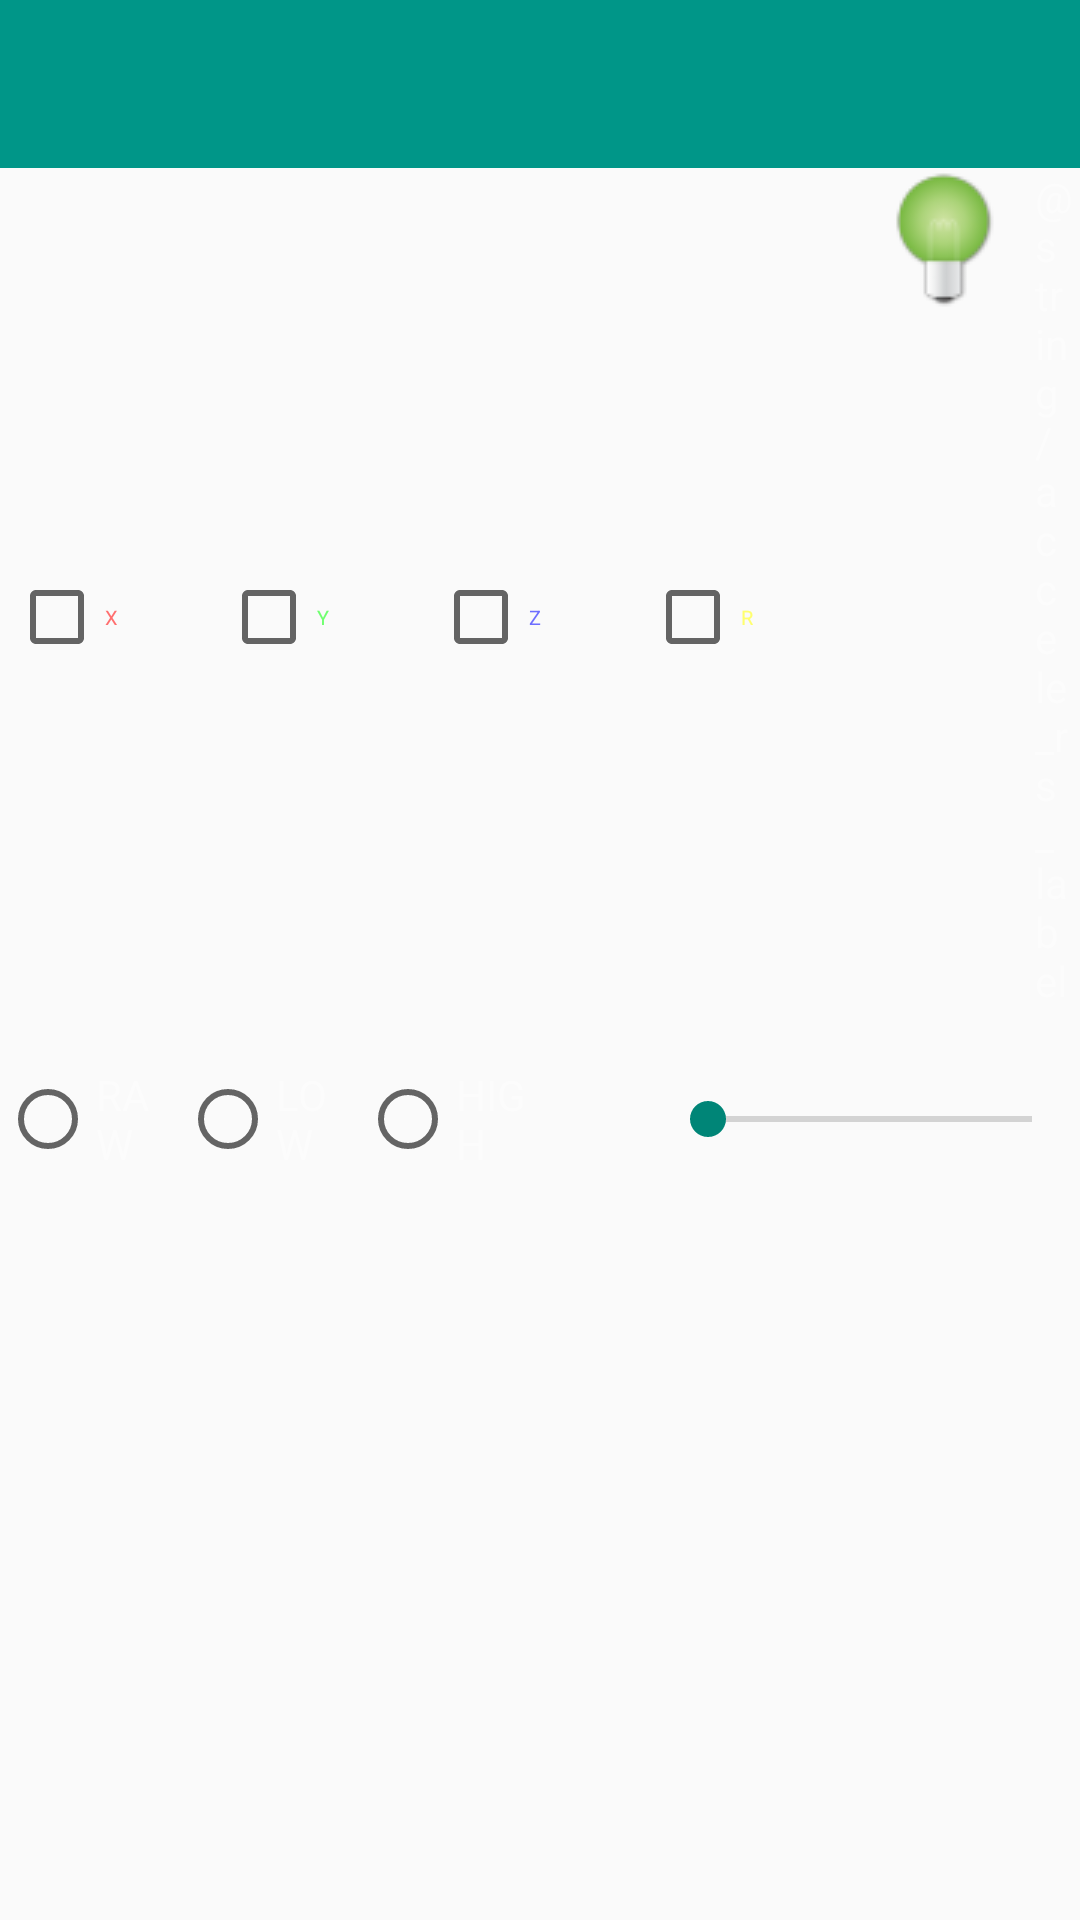

Where icons sit on this 1080×1920 app screen, as (x1, y1, x2, y2):
bulb: (896, 174, 991, 304)
